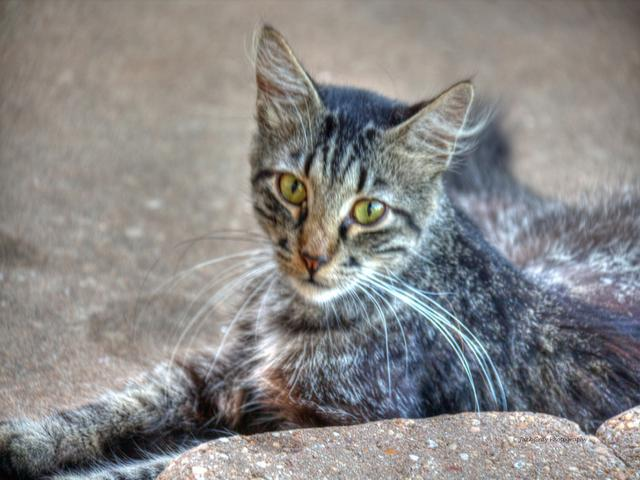cat: (184, 11, 553, 410)
